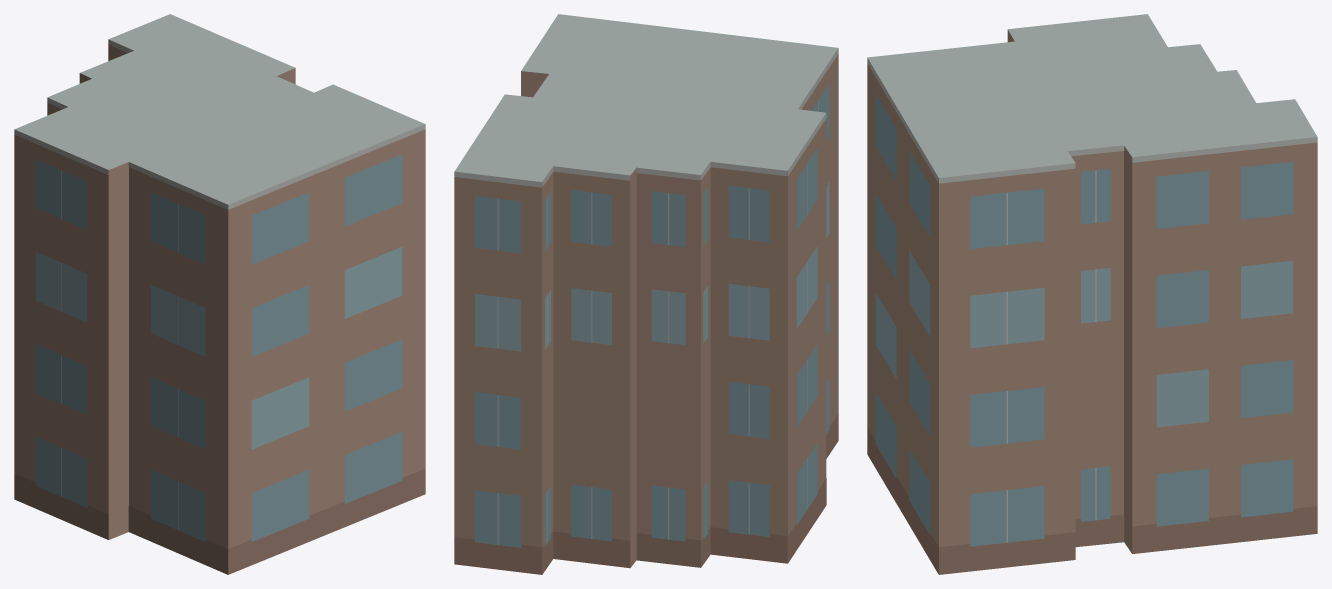
The model's file is survey-upis-32462418.glb.
The picture shows the model from 3 angles, left to right: view 1: azimuth 30°, elevation 25°; view 2: azimuth 150°, elevation 25°; view 3: azimuth 270°, elevation 25°; orthographic projection. The views are drawn at different scales.
Parts seen in each view (by area): view 1: survey-upis-32462418.tmp; view 2: survey-upis-32462418.tmp; view 3: survey-upis-32462418.tmp.
Part boxes in pixels (<box>): survey-upis-32462418.tmp: <box>14,14,425,574</box>; survey-upis-32462418.tmp: <box>454,14,838,574</box>; survey-upis-32462418.tmp: <box>867,14,1317,574</box>.
Size of the model in its own units: 15.63 by 17.6 by 18.11.
